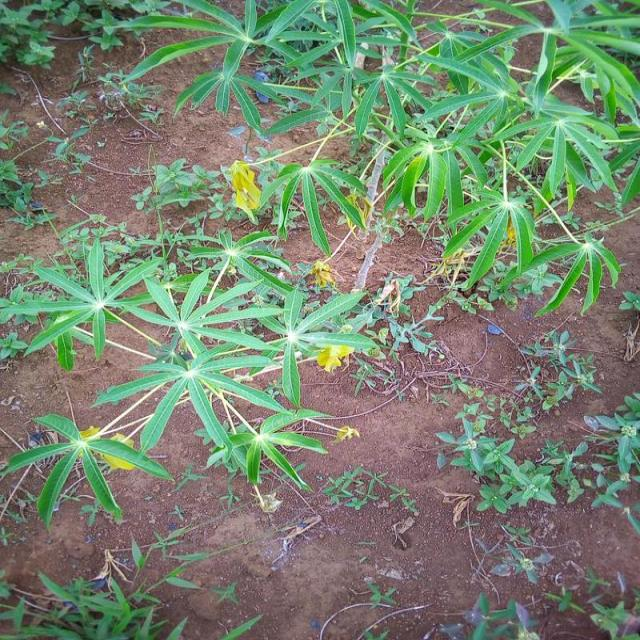cassava leaf: (1, 225, 376, 527), (3, 409, 170, 532)
